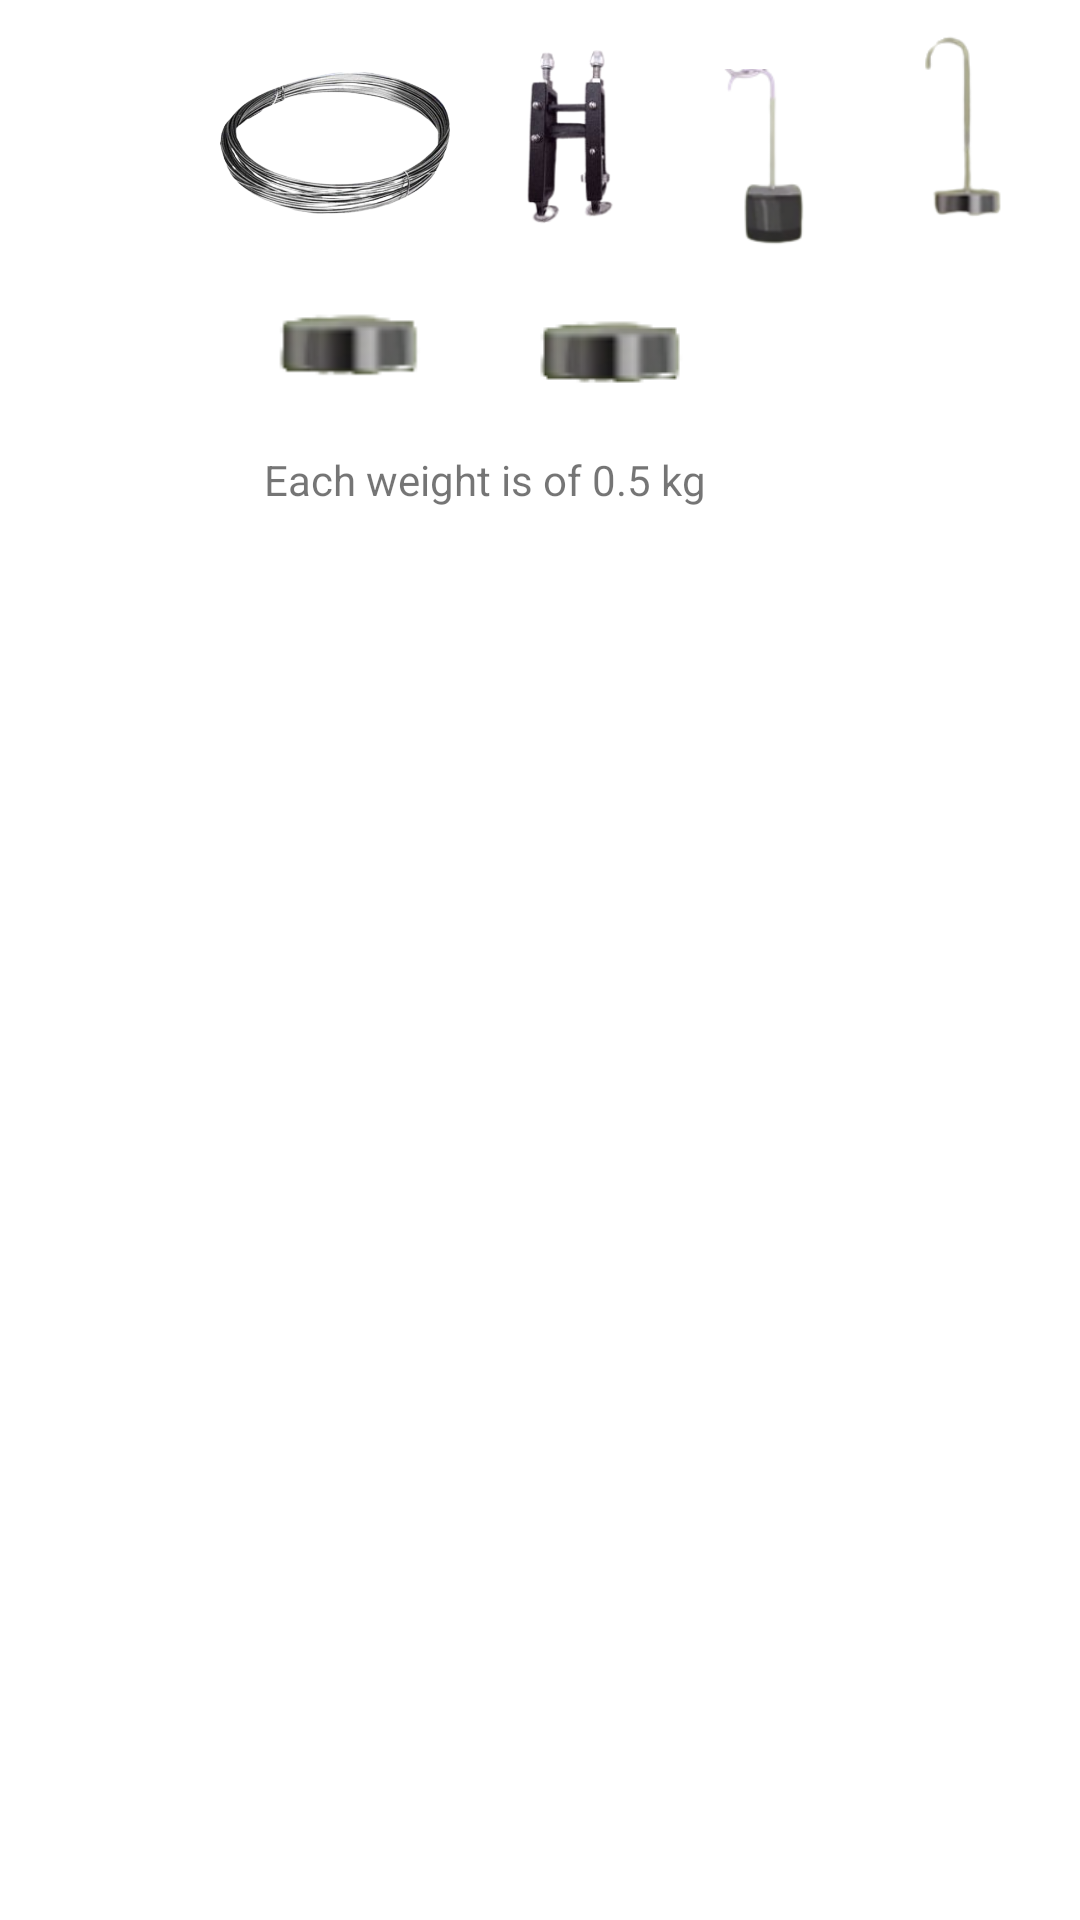

Icons on this 1080 x 1920 Android screen, each with the point to tap as point (x, y):
wire: point (335, 143)
